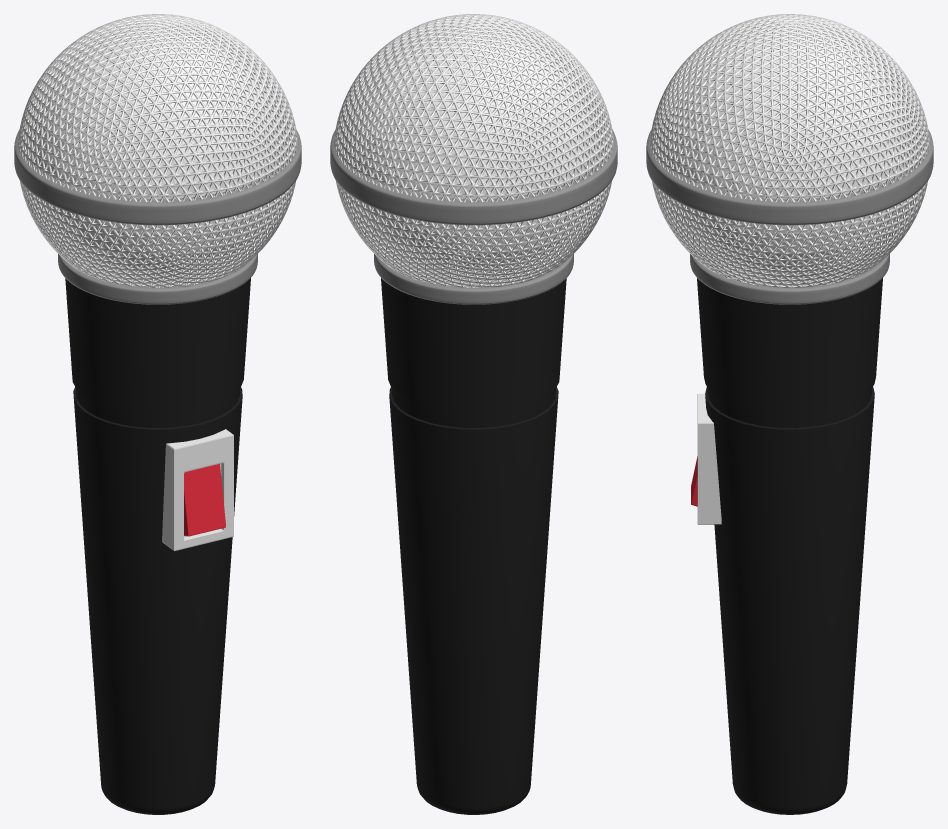
File: Microphone.fbx
3 views of the same model, side by side, from view 1: azimuth 30°, elevation 25°; view 2: azimuth 150°, elevation 25°; view 3: azimuth 270°, elevation 25° (orthographic).
Parts seen in each view (by area): view 1: Cylinder.001, Icosphere, Sphere, Cylinder, Cube, Cylinder.002; view 2: Cylinder.001, Icosphere, Sphere, Cylinder, Cylinder.002; view 3: Cylinder.001, Icosphere, Sphere, Cylinder, Cylinder.002, Cube.
Boxes of the visible parts, box(x1,y1,x2,y2) form: Cylinder.001: box(65, 278, 250, 814); Icosphere: box(18, 14, 297, 288); Sphere: box(26, 27, 289, 283); Cylinder: box(14, 129, 301, 225); Cube: box(162, 429, 233, 550); Cylinder.002: box(58, 254, 257, 304); Cylinder.001: box(381, 278, 566, 814); Icosphere: box(334, 14, 613, 288); Sphere: box(342, 27, 605, 283); Cylinder: box(330, 129, 617, 225); Cylinder.002: box(374, 254, 573, 304); Cylinder.001: box(697, 278, 882, 814); Icosphere: box(650, 14, 929, 288); Sphere: box(660, 25, 919, 282); Cylinder: box(646, 129, 933, 225); Cylinder.002: box(690, 254, 889, 304); Cube: box(691, 393, 721, 524).
Bounding box in the file's own units: 2.06 × 6.08 × 2.06.
